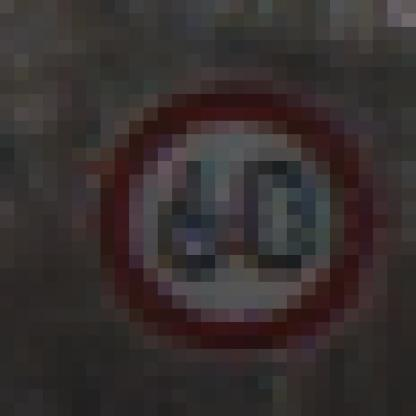Speed Limit 60: (96, 84, 362, 346)
